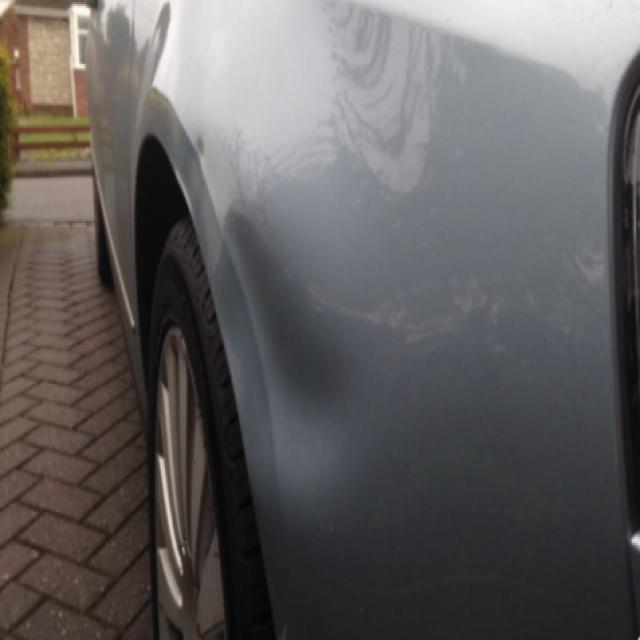dents: (188, 178, 376, 484)
